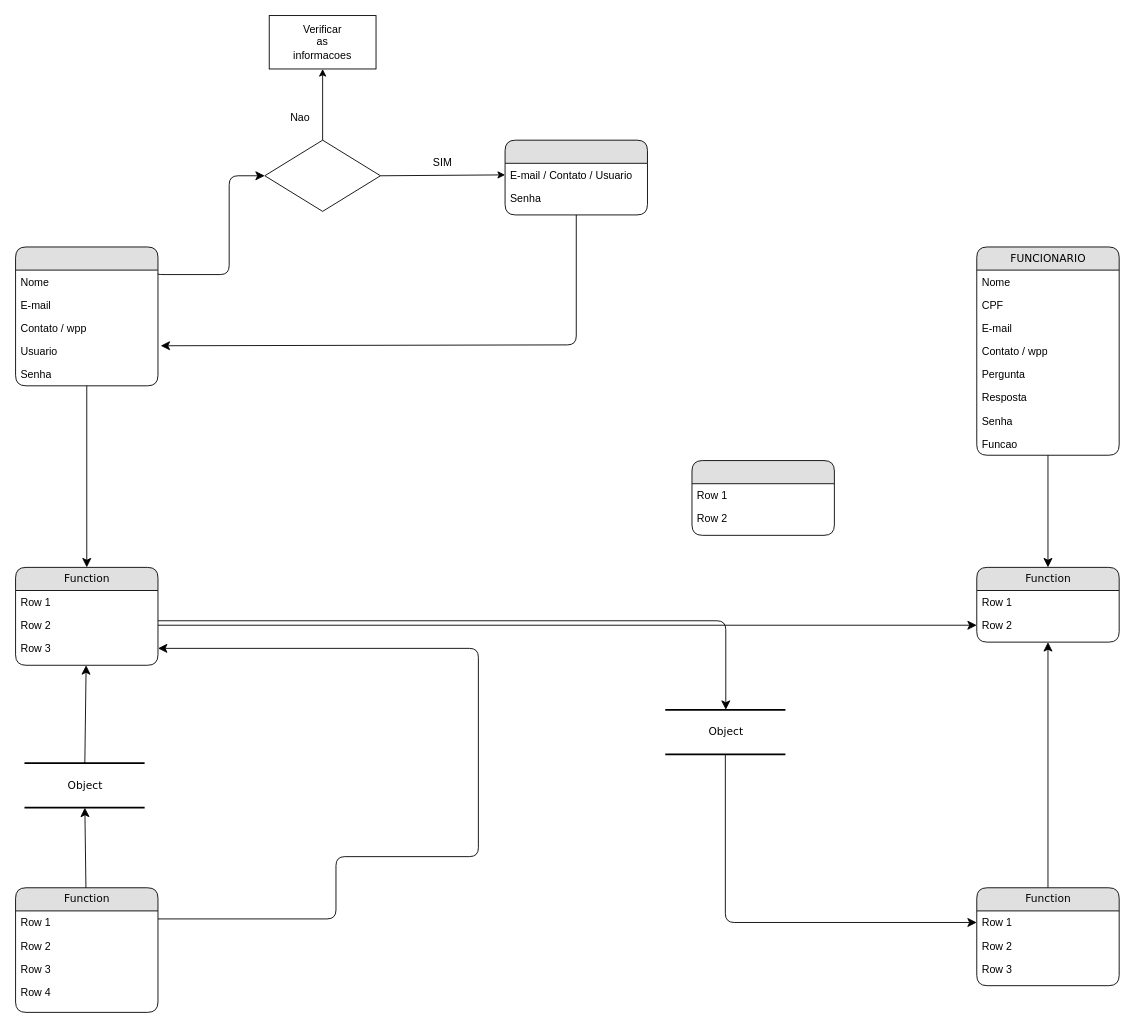
Some shapes in this 1135 by 1028 pixel diagram are drawn without their labels. The box of each missing label's shape, as (x1, y1, x2, y2) in pixels:
CLIENTE: (15, 246, 158, 386)
LOGIN_CLIENTE: (504, 139, 647, 215)
LOGIN_FUNCIONARIO: (691, 460, 834, 535)
Validacao de informacoes: (264, 139, 380, 211)
